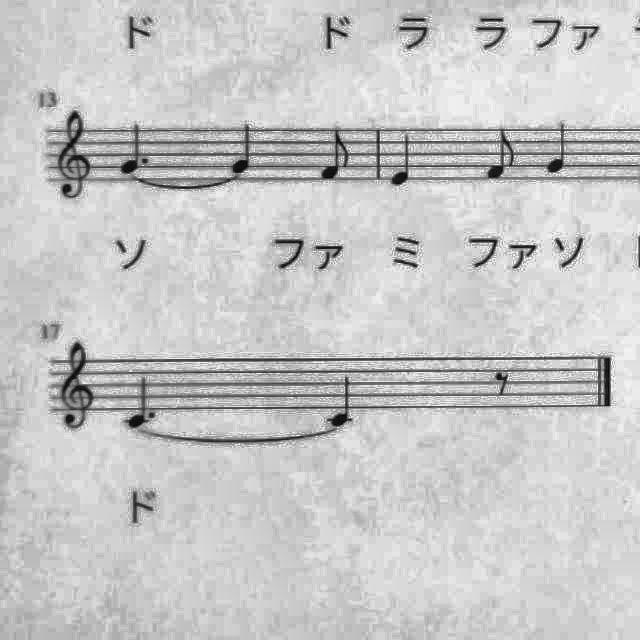Eighth-note: (314, 123, 356, 185), (479, 124, 521, 184)
Eighth-rest: (488, 363, 516, 401)
Quarter-dot: (118, 371, 164, 433), (115, 118, 157, 178)
Quarter-note: (542, 117, 578, 179), (384, 130, 420, 192), (325, 374, 363, 431), (225, 120, 262, 178)
Treble-clef: (48, 104, 100, 204), (53, 339, 103, 436)
